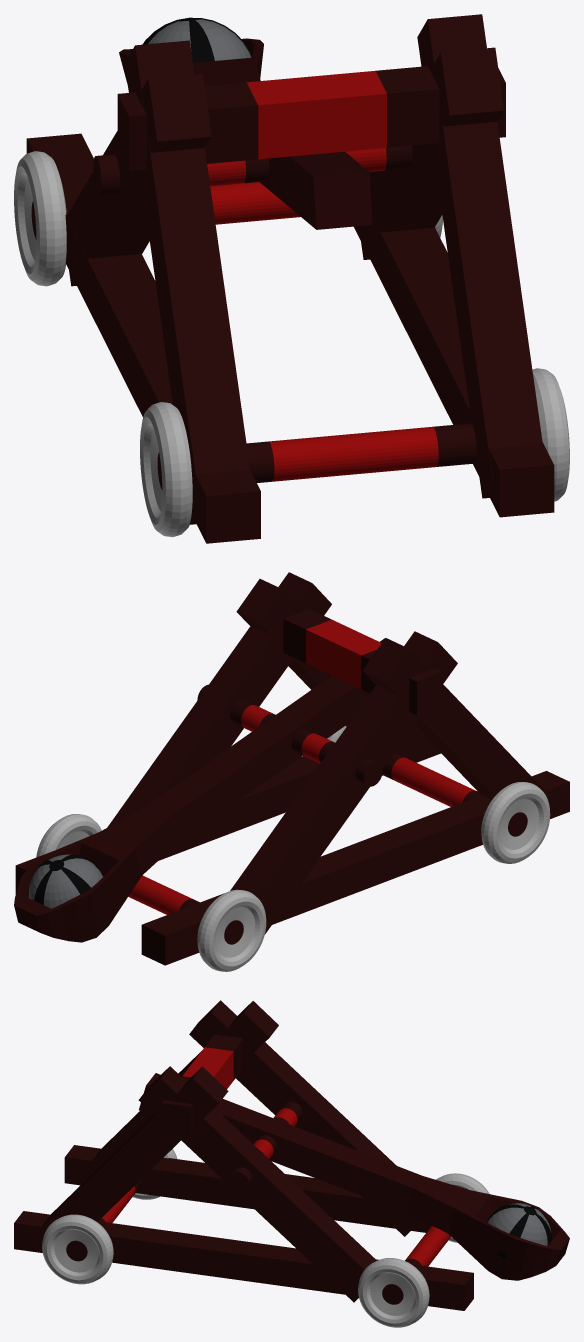
Rendered from ОркКатапульта2.fbx.
3 renders of one model, top to bottom at view 1: azimuth 30°, elevation 25°; view 2: azimuth 150°, elevation 25°; view 3: azimuth 270°, elevation 25°, orthographic. The views are drawn at different scales.
Visible parts, largest first — view 1: Куб.105, Куб.102, Куб.109, Куб.108, Куб.107, Куб.104, Куб.106, Цилиндр.276, Куб.103, Тор.031, Тор.030, Цилиндр.274 (+4 smaller); view 2: Куб.103, Куб.108, Куб.104, Куб.106, Куб.102, Куб.109, Куб.107, Тор.031, Тор.030, Куб.105, Цилиндр.276, Цилиндр.274 (+4 smaller); view 3: Куб.103, Куб.107, Куб.106, Куб.104, Куб.108, Куб.105, Тор.029, Тор.032, Куб.109, Куб.102, Цилиндр.274, Цилиндр.275 (+4 smaller).
Boxes of the visible parts, x1,y1,x2,y2 form: Куб.105: (417,14,542,498); Куб.102: (124,40,249,524); Куб.109: (117,66,505,170); Куб.108: (26,133,260,543); Куб.107: (354,226,554,517); Куб.104: (66,73,211,286); Куб.106: (359,47,503,259); Цилиндр.276: (157,423,476,489); Куб.103: (119,38,372,229); Тор.031: (14,151,66,286); Тор.030: (140,402,192,537); Цилиндр.274: (93,145,412,196); Куб.103: (14,638,384,942); Куб.108: (141,771,569,965); Куб.104: (230,631,457,934); Куб.106: (107,572,331,827); Куб.102: (362,638,544,799); Куб.109: (283,609,442,715); Куб.107: (15,725,440,894); Тор.031: (197,889,266,971); Тор.030: (481,782,550,863); Куб.105: (236,579,429,762); Цилиндр.276: (382,752,527,836); Цилиндр.274: (197,684,382,786); Куб.103: (139,1073,569,1280); Куб.107: (14,1211,473,1310); Куб.106: (138,1066,375,1302); Куб.104: (189,1000,420,1236); Куб.108: (64,1145,431,1232); Куб.105: (41,1066,228,1227); Тор.029: (42,1214,113,1284); Тор.032: (358,1258,429,1327); Куб.109: (161,1034,243,1136); Куб.102: (81,1001,278,1178); Цилиндр.274: (227,1101,302,1191); Цилиндр.275: (382,1226,451,1304).
Bounding box in the file's own units: 112 × 78.91 × 184.
